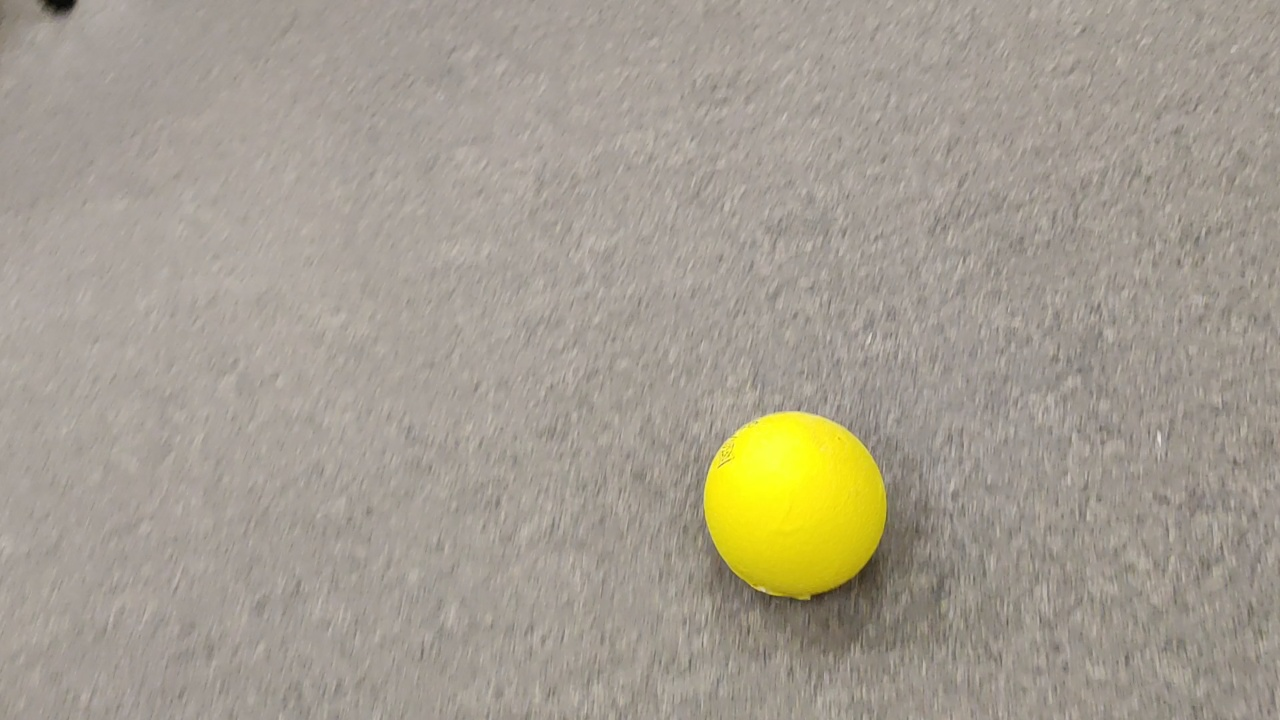Ball: (702, 412, 887, 600)
